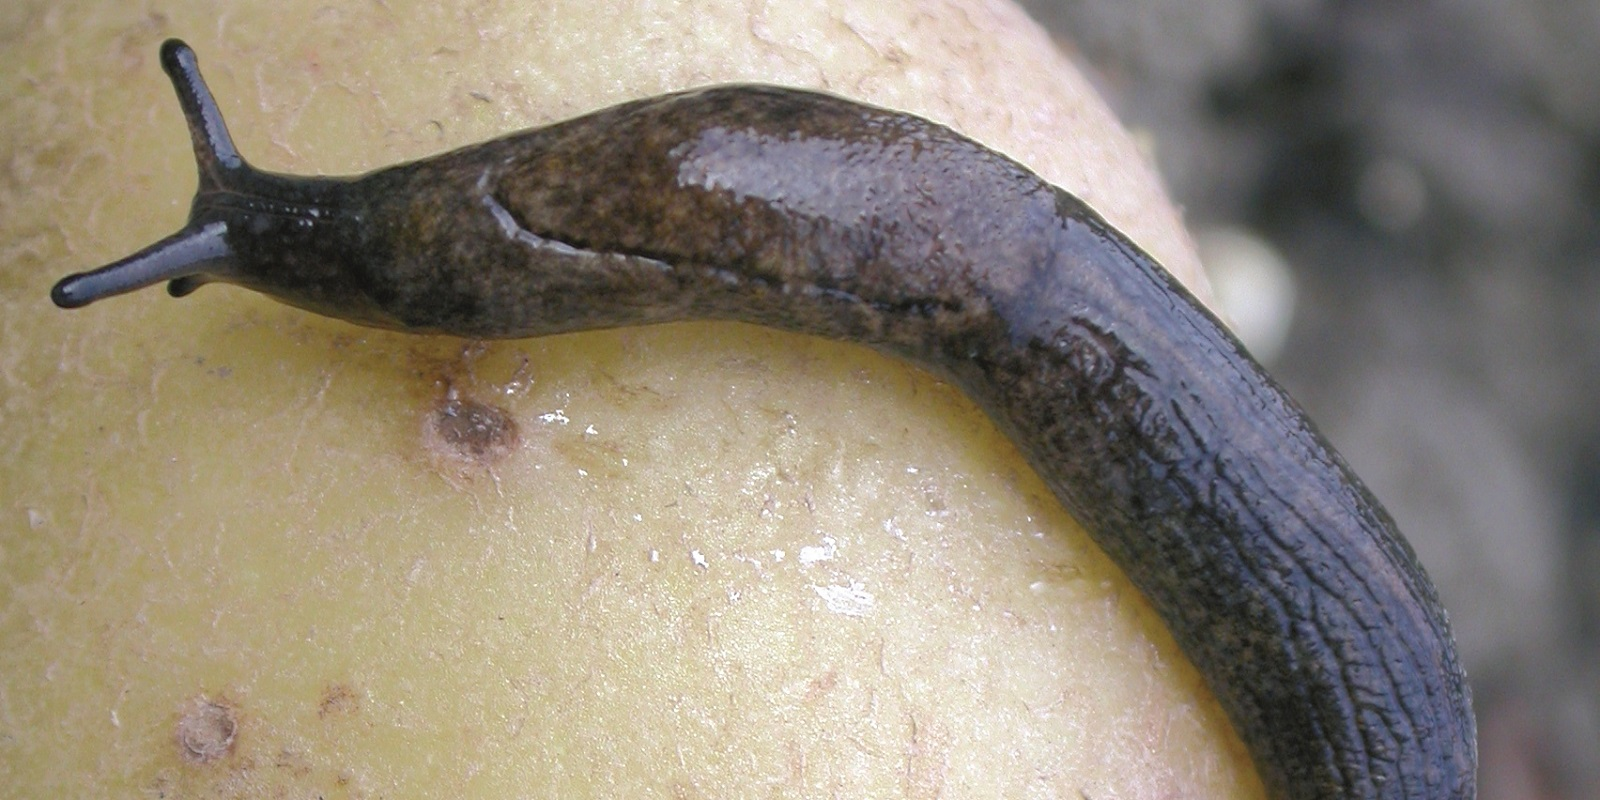slug: (100, 31, 1479, 800)
